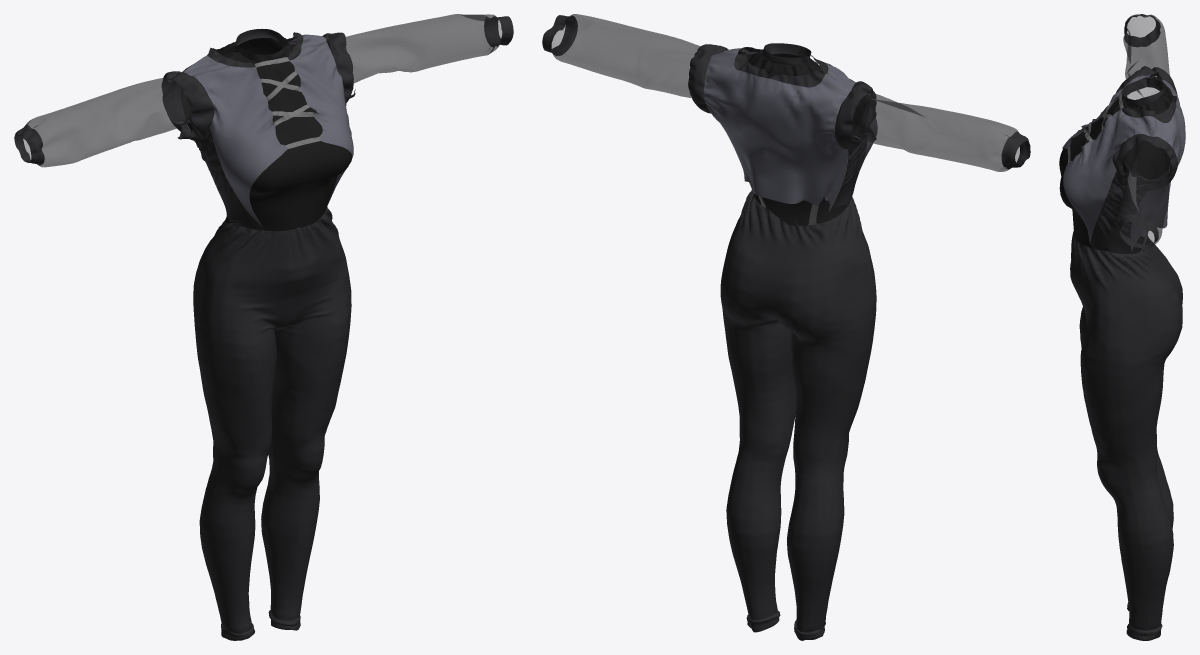
The model's file is G_clothe6.glb.
3 views of the same model, side by side, from view 1: azimuth 30°, elevation 25°; view 2: azimuth 150°, elevation 25°; view 3: azimuth 270°, elevation 25° (orthographic). The views are drawn at different scales.
Parts seen in each view (by area): view 1: Garment; view 2: Garment; view 3: Garment.
Boxes of the visible parts, left/top/right/bottom form: Garment: left=14, top=14, right=513, bottom=640; Garment: left=542, top=14, right=1030, bottom=640; Garment: left=1059, top=14, right=1185, bottom=640.
Bounding box in the file's own units: 1.15 × 1.35 × 0.2867.
1 material, 1 textured.
